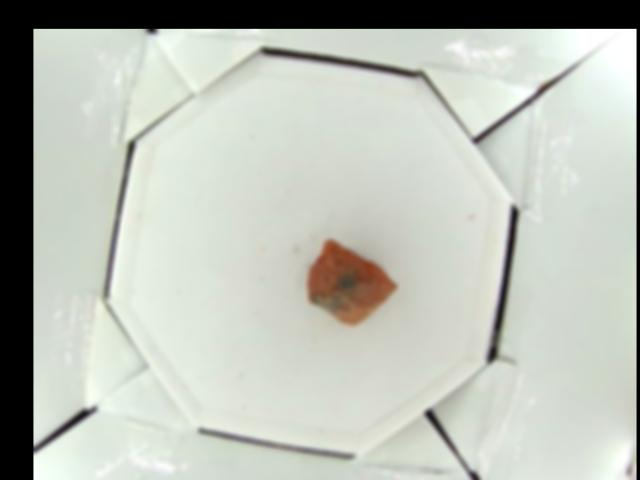Brisk: (309, 239, 395, 325)
